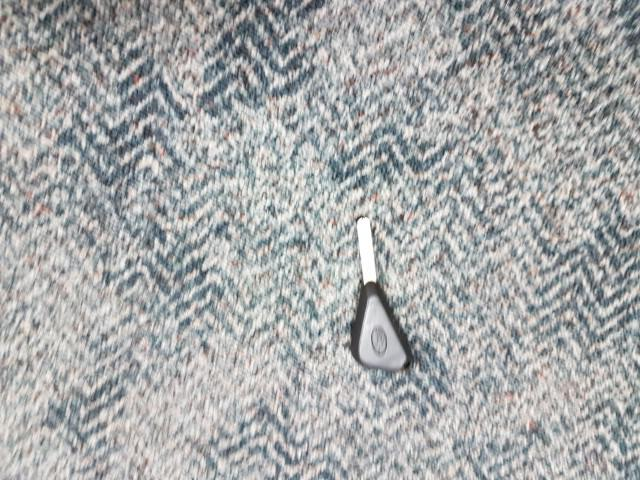key: (342, 209, 423, 377)
